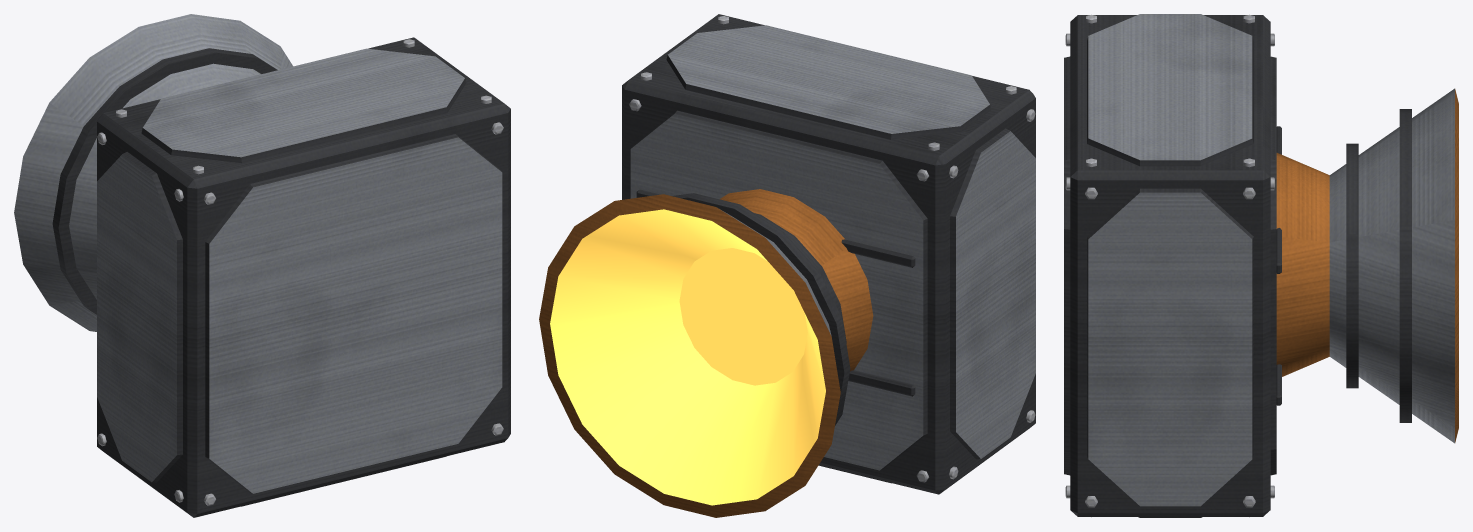
File: R4X_Booster.glb
3 renders of one model, left to right at view 1: azimuth 30°, elevation 25°; view 2: azimuth 150°, elevation 25°; view 3: azimuth 270°, elevation 25°, orthographic. The views are drawn at different scales.
Parts seen in each view (by area): view 1: R4X_Booster_Body; view 2: R4X_Booster_Body; view 3: R4X_Booster_Body.
Part boxes in pixels (bbox=[...]): R4X_Booster_Body: bbox=[14, 14, 510, 517]; R4X_Booster_Body: bbox=[539, 14, 1035, 517]; R4X_Booster_Body: bbox=[1064, 14, 1458, 517].
Bounding box in the file's own units: 0.52 × 0.52 × 0.52.
Materials: 5 (4 with a texture image).
